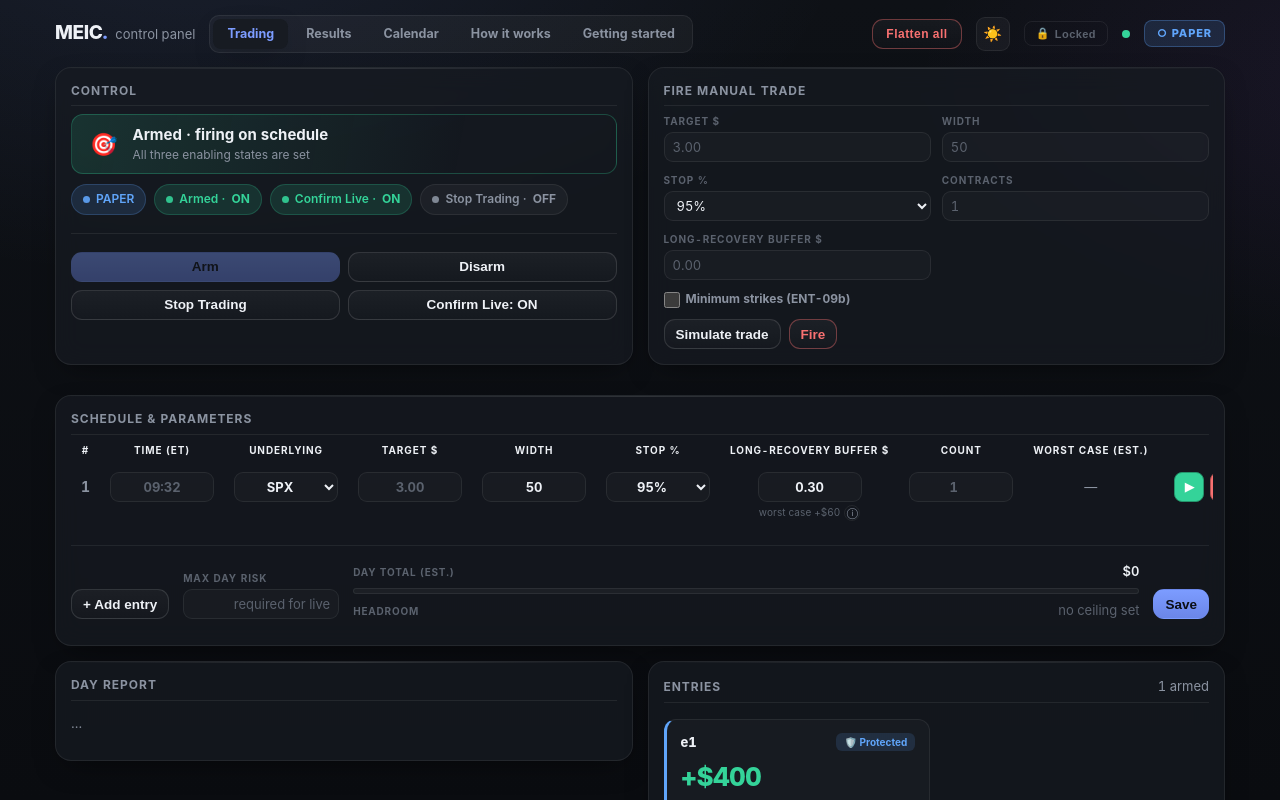
App — Close / Flatten (UI-16 / TC-FLT-01) › Flatten all warns 'still open' when some entries did not fully close
Click the button "Flatten all". click: [917, 34]
box: [872, 19, 962, 49]
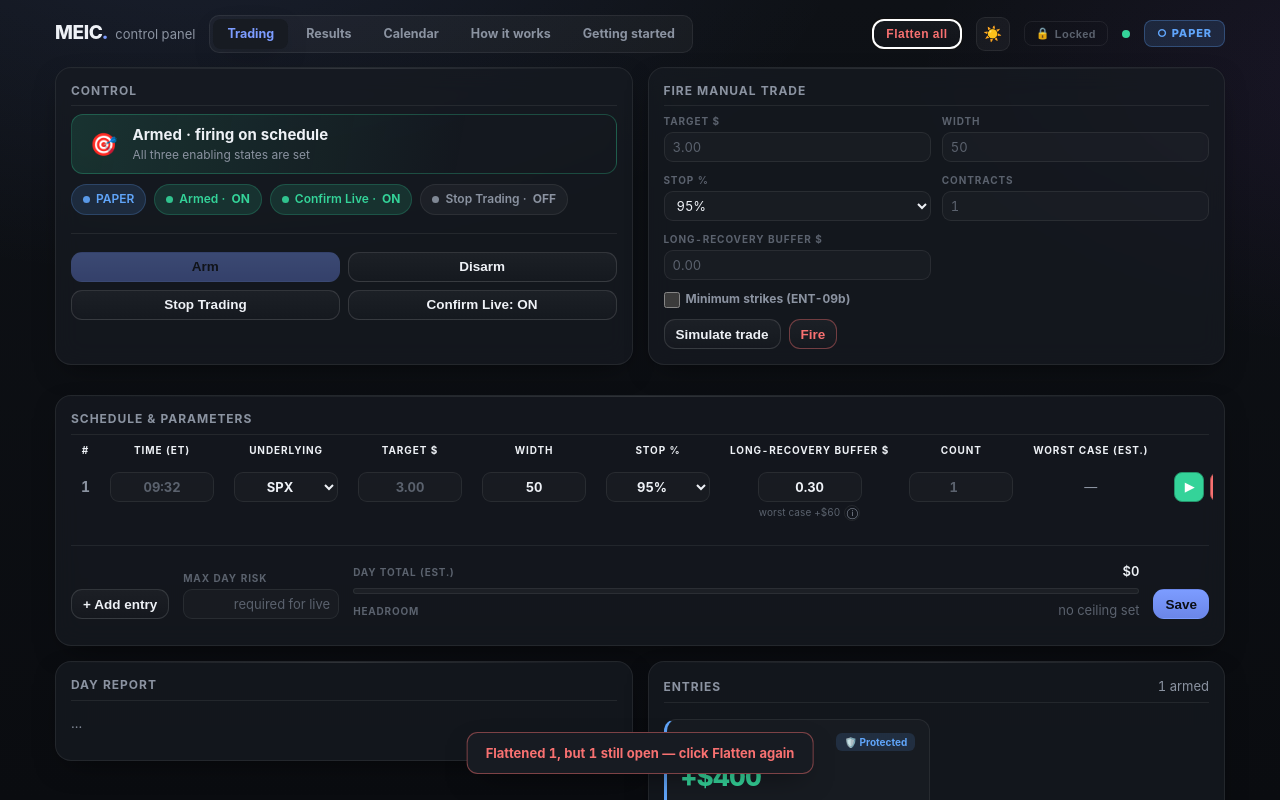
expect the text "Flattened 1, but 1 still open — click Flatten again" is shown: met, box [467, 732, 813, 774]
